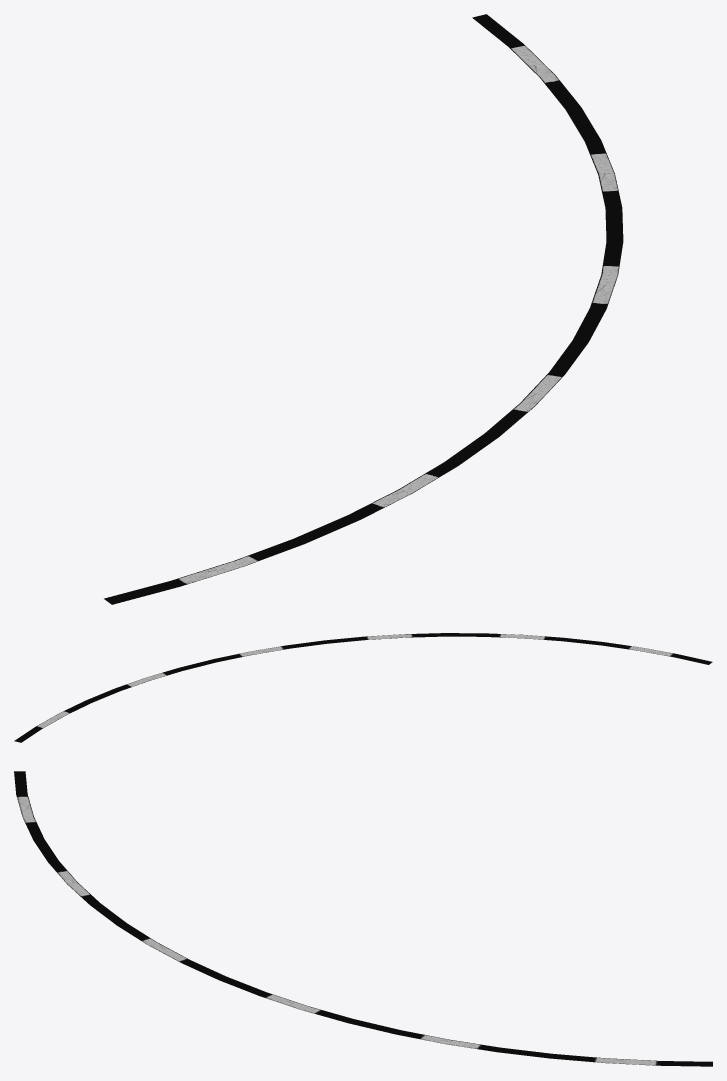
Rendered from Decal_Curve_4LaneLong.gltf.
The picture shows the model from 3 angles, top to bottom: view 1: azimuth 30°, elevation 25°; view 2: azimuth 150°, elevation 25°; view 3: azimuth 270°, elevation 25°; orthographic projection. The views are drawn at different scales.
Visible parts, largest first — view 1: Decal_Curve_4LaneLong; view 2: Decal_Curve_4LaneLong; view 3: Decal_Curve_4LaneLong.
Boxes of the visible parts, x1=… form: Decal_Curve_4LaneLong: x1=104, y1=14, x2=623, y2=604; Decal_Curve_4LaneLong: x1=14, y1=633, x2=712, y2=742; Decal_Curve_4LaneLong: x1=14, y1=771, x2=712, y2=1066.
Bounding box in the file's own units: 12.1 × 0 × 12.1.
1 material, 1 textured.
